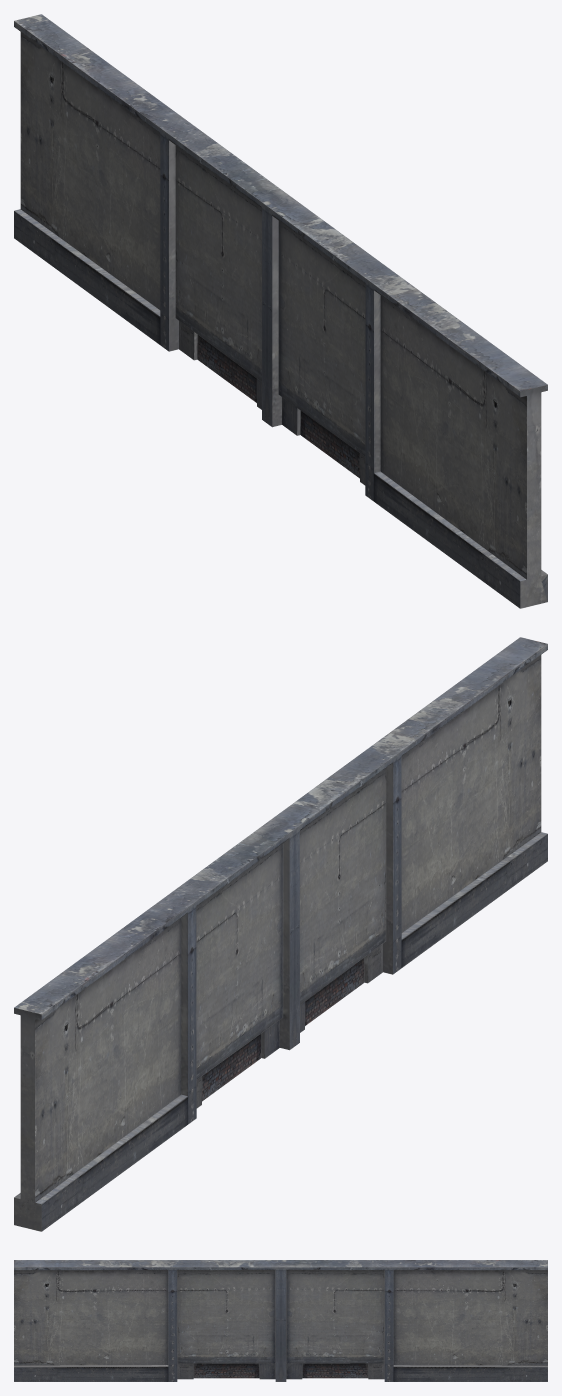
File: SM_Wall_01.fbx
The picture shows the model from 3 angles, top to bottom: view 1: azimuth 30°, elevation 25°; view 2: azimuth 150°, elevation 25°; view 3: azimuth 270°, elevation 25°; orthographic projection. The views are drawn at different scales.
Parts seen in each view (by area): view 1: SM_Wall_01; view 2: SM_Wall_01; view 3: SM_Wall_01.
Part boxes in pixels (bbox=[...]): SM_Wall_01: bbox=[14, 14, 547, 608]; SM_Wall_01: bbox=[14, 637, 547, 1231]; SM_Wall_01: bbox=[14, 1260, 547, 1381].
Bounding box in the file's own units: 60 × 1900 × 450.
Materials: 1 (1 with a texture image).
